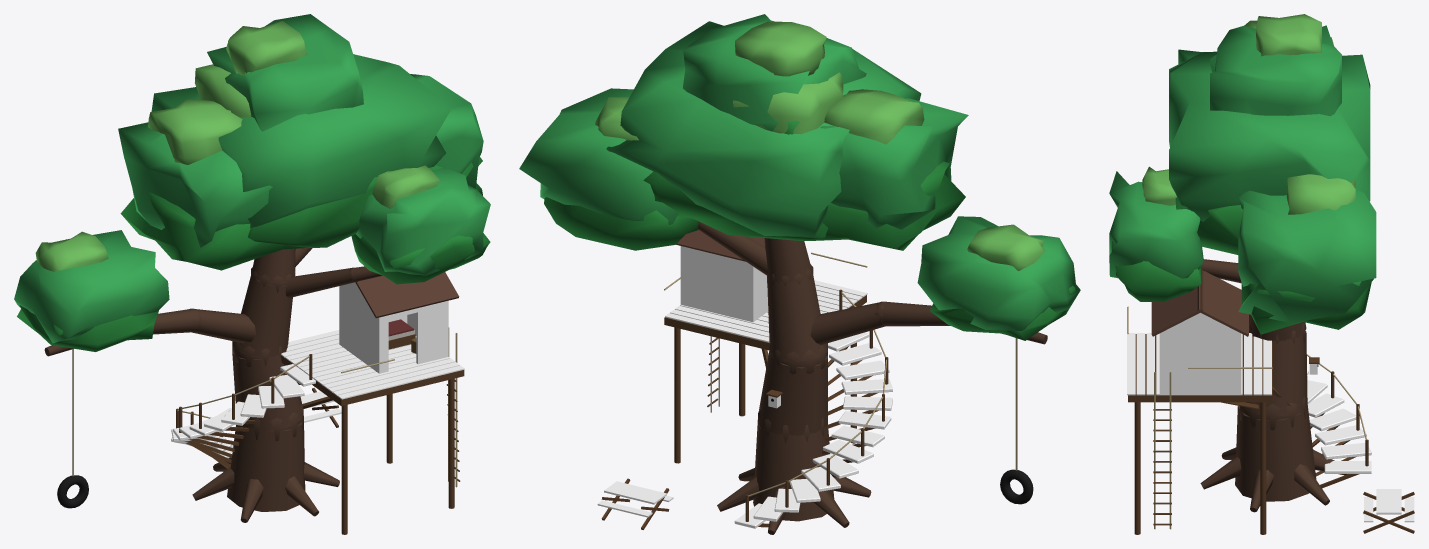
Rendered from tf-tree-p3.glb.
3 renders of one model, left to right at view 1: azimuth 30°, elevation 25°; view 2: azimuth 150°, elevation 25°; view 3: azimuth 270°, elevation 25°, orthographic. The views are drawn at different scales.
Parts seen in each view (by area): view 1: tf-tree-p3; view 2: tf-tree-p3; view 3: tf-tree-p3.
Boxes of the visible parts, bbox=[...] form: tf-tree-p3: bbox=[14, 14, 490, 534]; tf-tree-p3: bbox=[519, 14, 1080, 534]; tf-tree-p3: bbox=[1109, 14, 1414, 534].
Bounding box in the file's own units: 17 × 16.54 × 9.72.
